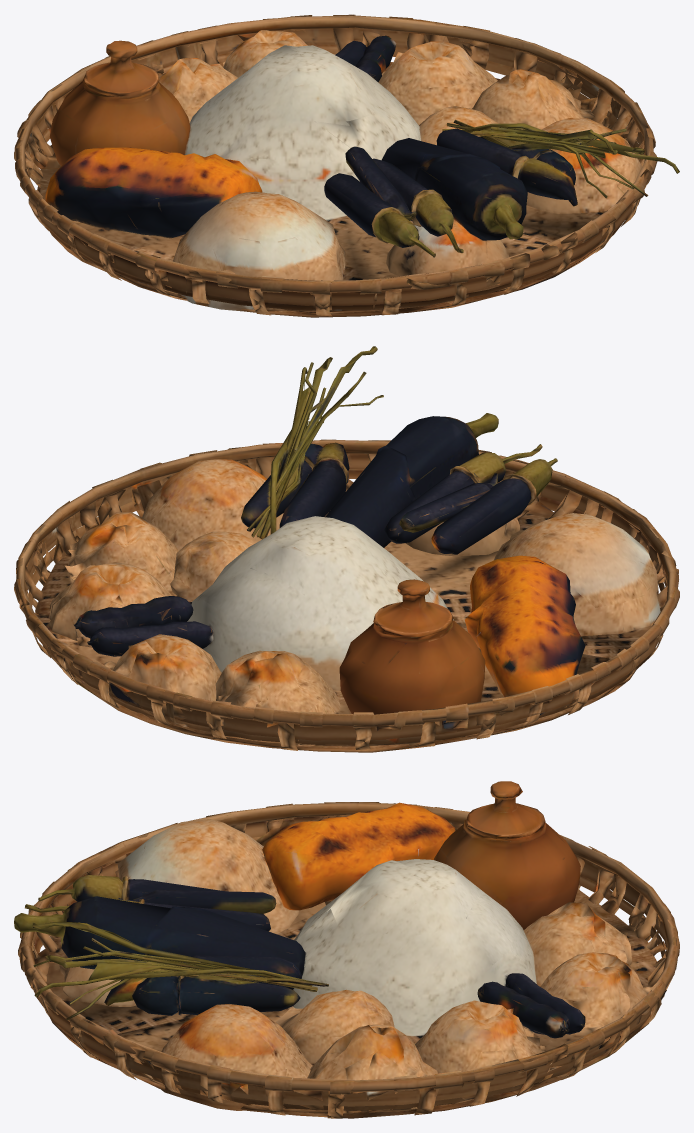
File: MamLuongThuc_LangGiong.fbx
3 renders of one model, top to bottom at view 1: azimuth 30°, elevation 25°; view 2: azimuth 150°, elevation 25°; view 3: azimuth 270°, elevation 25°, orthographic. The views are drawn at different scales.
Visible parts, largest first — view 1: Mesh_0; view 2: Mesh_0; view 3: Mesh_0.
Boxes of the visible parts, x1=… form: Mesh_0: x1=14, y1=14, x2=679, y2=317; Mesh_0: x1=14, y1=346, x2=679, y2=752; Mesh_0: x1=14, y1=781, x2=679, y2=1118.
Size of the model in its own units: 94.29 by 20.75 by 93.85.
Materials: 1 (1 with a texture image).
